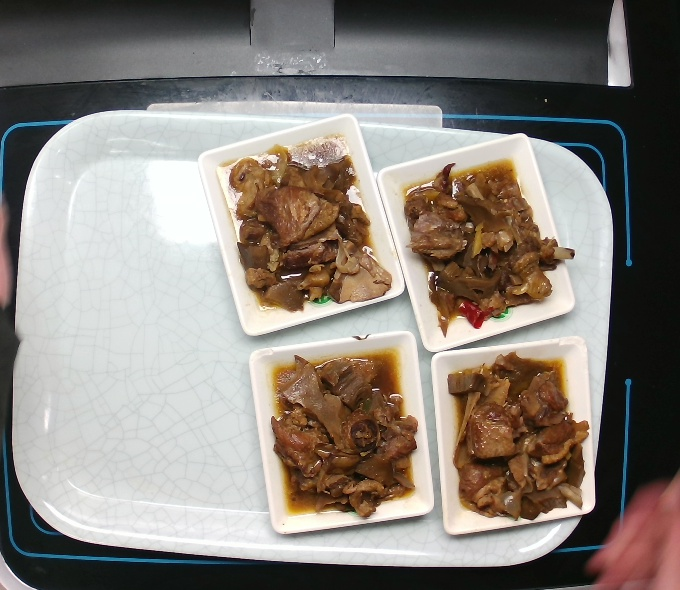wcq-YaRouSunGan: (223, 140, 393, 308), (400, 154, 556, 329), (267, 350, 418, 514), (446, 349, 587, 520)
